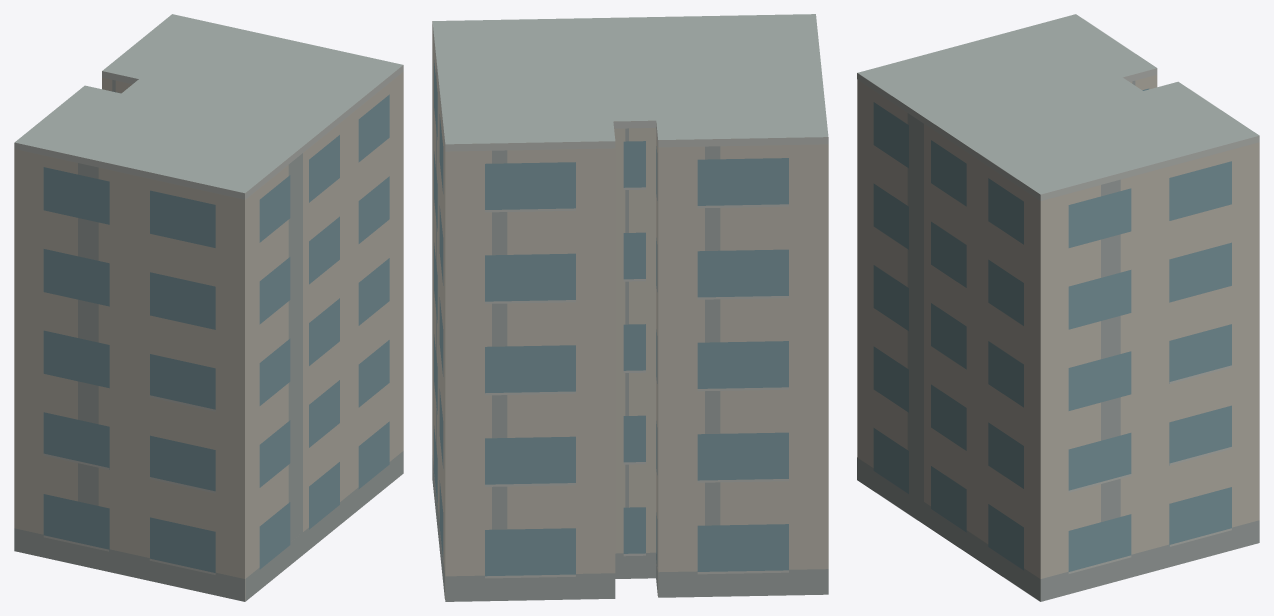
File: residential-294c9bb4-cd07-457f-87c7-edbe78d36f15.glb
3 views of the same model, side by side, from view 1: azimuth 30°, elevation 25°; view 2: azimuth 150°, elevation 25°; view 3: azimuth 270°, elevation 25° (orthographic). The views are drawn at different scales.
Visible parts, largest first — view 1: residential-294c9bb4-cd07-457f-87c7-edbe78d36f15.tmp; view 2: residential-294c9bb4-cd07-457f-87c7-edbe78d36f15.tmp; view 3: residential-294c9bb4-cd07-457f-87c7-edbe78d36f15.tmp.
Boxes of the visible parts, x1,y1,x2,y2 form: residential-294c9bb4-cd07-457f-87c7-edbe78d36f15.tmp: (14, 14, 403, 601); residential-294c9bb4-cd07-457f-87c7-edbe78d36f15.tmp: (432, 14, 828, 601); residential-294c9bb4-cd07-457f-87c7-edbe78d36f15.tmp: (857, 14, 1259, 601).
Size of the model in its own units: 14.56 by 15.3 by 13.71.
